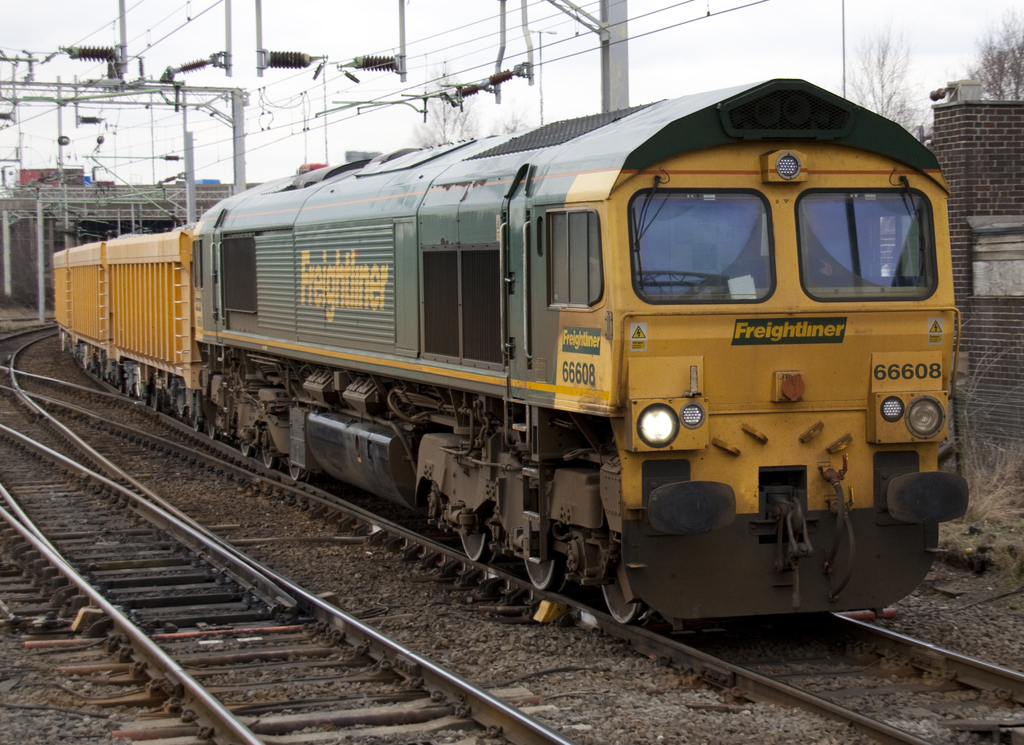train: (54, 76, 972, 629)
